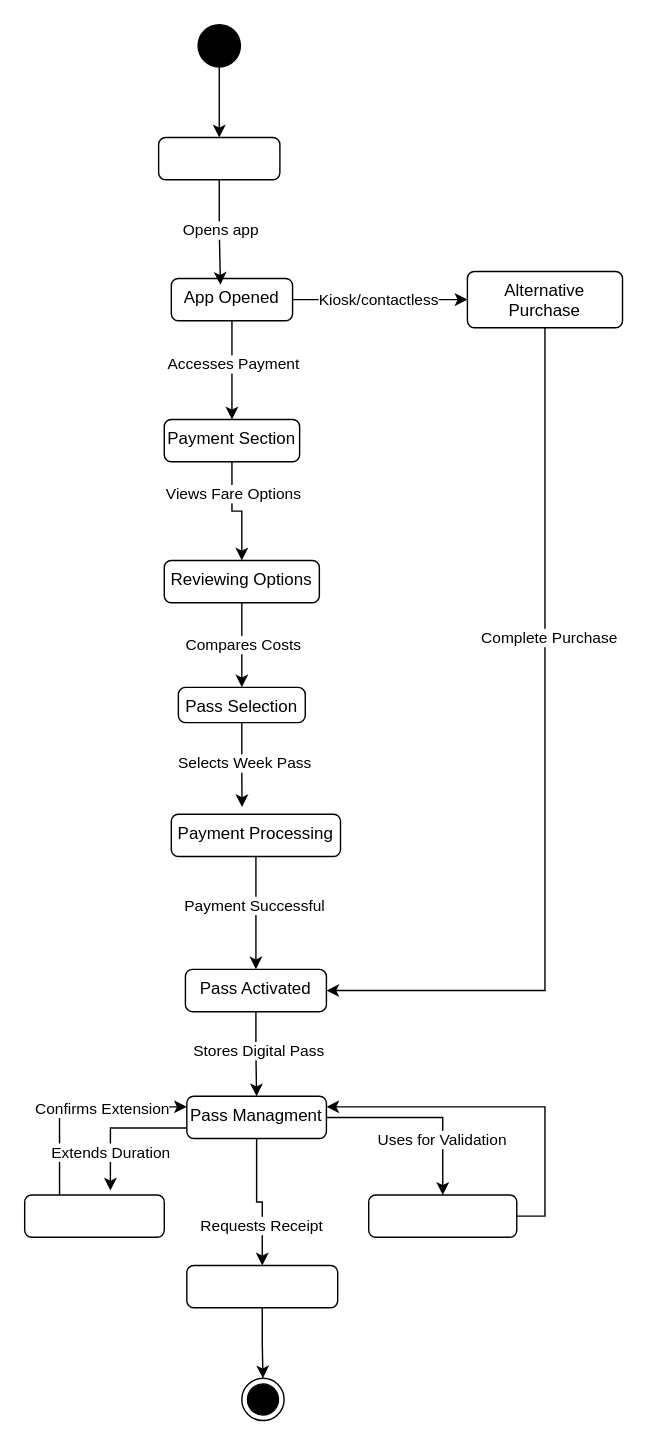
Image size: 647x1445. Some labels were removed from this diagram. Each missing label, with the box of its shape:
App Closed: (157, 136, 280, 180)
Pass Extension: (23, 1194, 164, 1237)
Pass Validation: (367, 1194, 517, 1237)
Receipt generation: (185, 1264, 338, 1308)
